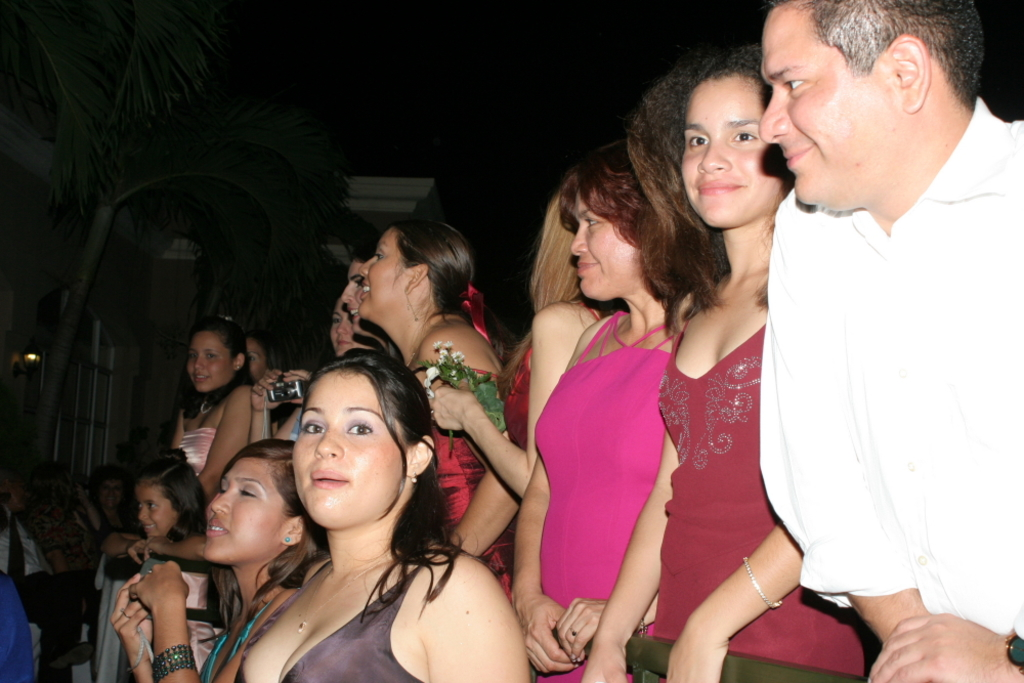Human_hand: (866, 611, 1019, 682), (514, 592, 583, 676), (110, 570, 159, 668), (671, 614, 732, 682), (554, 597, 613, 667), (426, 384, 482, 431), (580, 637, 633, 682), (279, 368, 321, 411), (250, 367, 285, 414), (100, 531, 128, 564), (142, 536, 180, 560), (128, 539, 146, 569), (77, 481, 94, 508), (48, 549, 67, 567)
